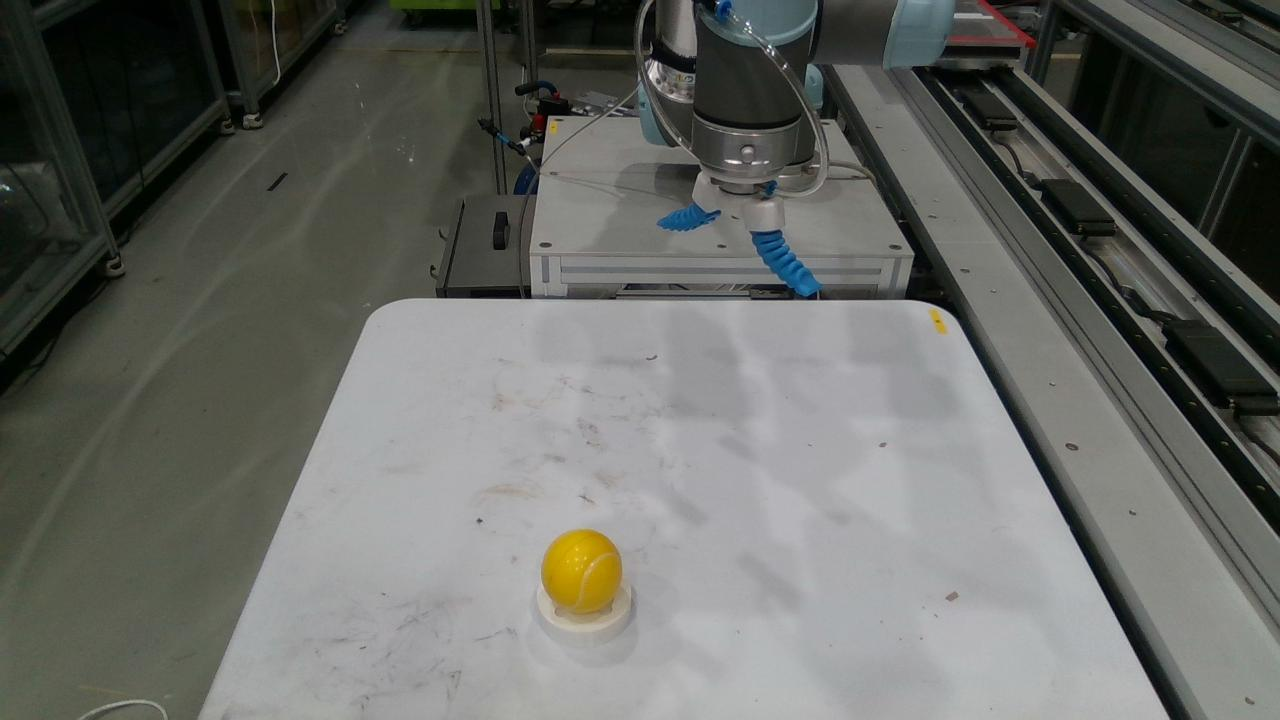UR5: (638, 0, 954, 229)
gripper_left: (657, 202, 720, 231)
gripper_right: (749, 230, 820, 296)
target: (541, 529, 624, 613), (536, 584, 633, 644)
